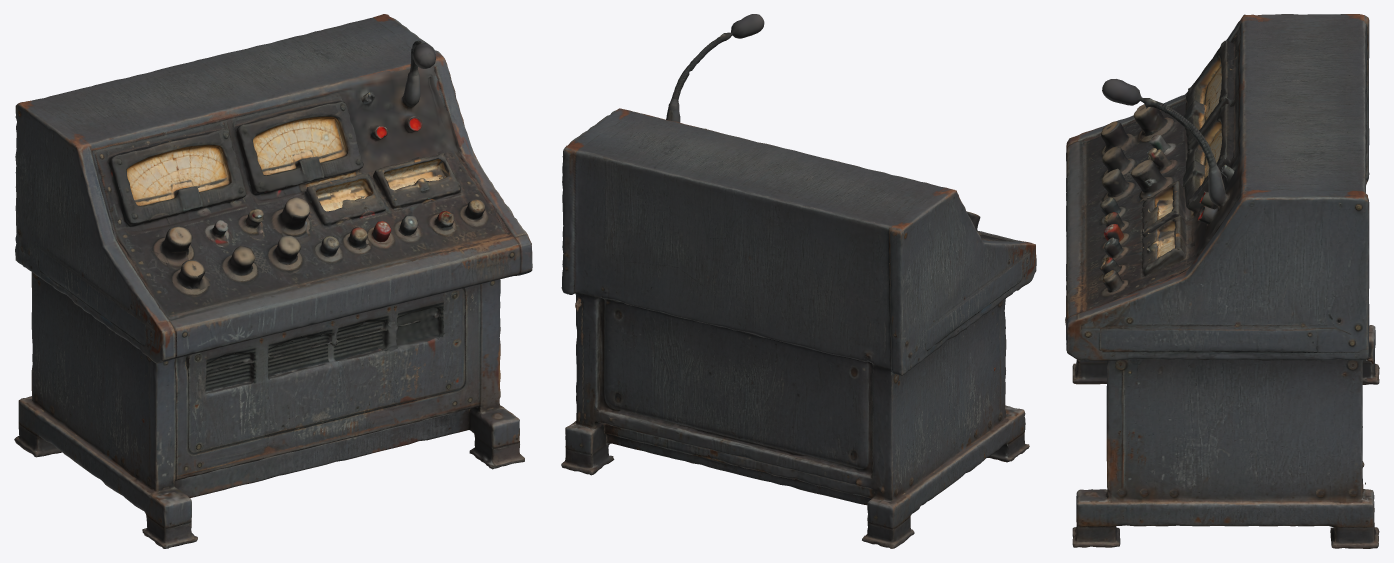
File: BroadcastConsole.glb
The picture shows the model from 3 angles, left to right: view 1: azimuth 30°, elevation 25°; view 2: azimuth 150°, elevation 25°; view 3: azimuth 270°, elevation 25°; orthographic projection. The views are drawn at different scales.
Visible parts, largest first — view 1: texture_mapping; view 2: texture_mapping; view 3: texture_mapping.
Part boxes in pixels (x1,y1,x2,y2): texture_mapping: (14, 14, 532, 548); texture_mapping: (561, 14, 1036, 548); texture_mapping: (1065, 14, 1379, 548).
Bounding box in the file's own units: 0.9356 × 1 × 0.6659.
1 material, 1 textured.
